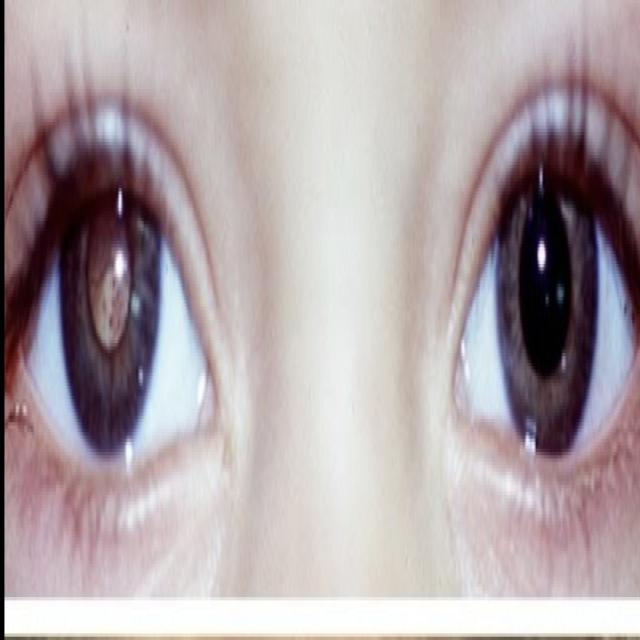reflexo-alterado: (58, 144, 165, 477)
reflexo-normal: (449, 34, 607, 513)
